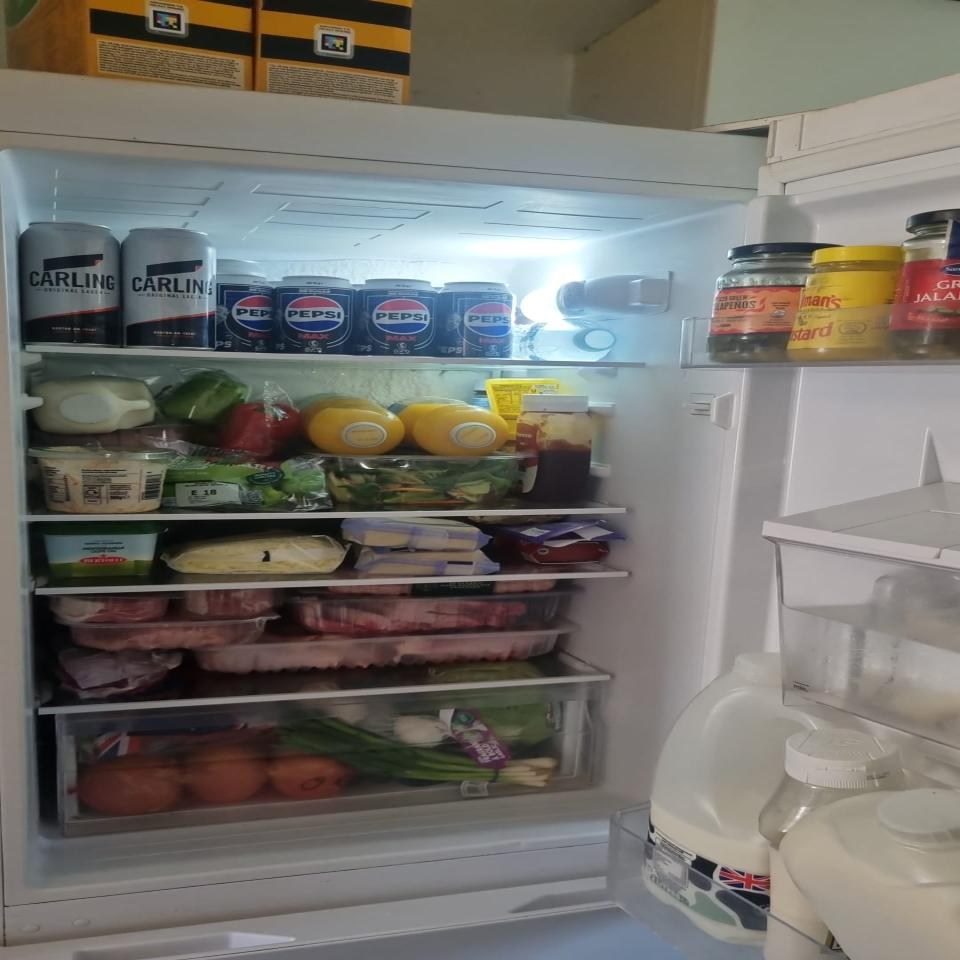Carne pollo: (78, 622, 253, 650)
Leche: (640, 652, 805, 945), (767, 786, 960, 960), (30, 374, 156, 434)
Queso: (338, 516, 485, 552), (354, 550, 480, 576)
